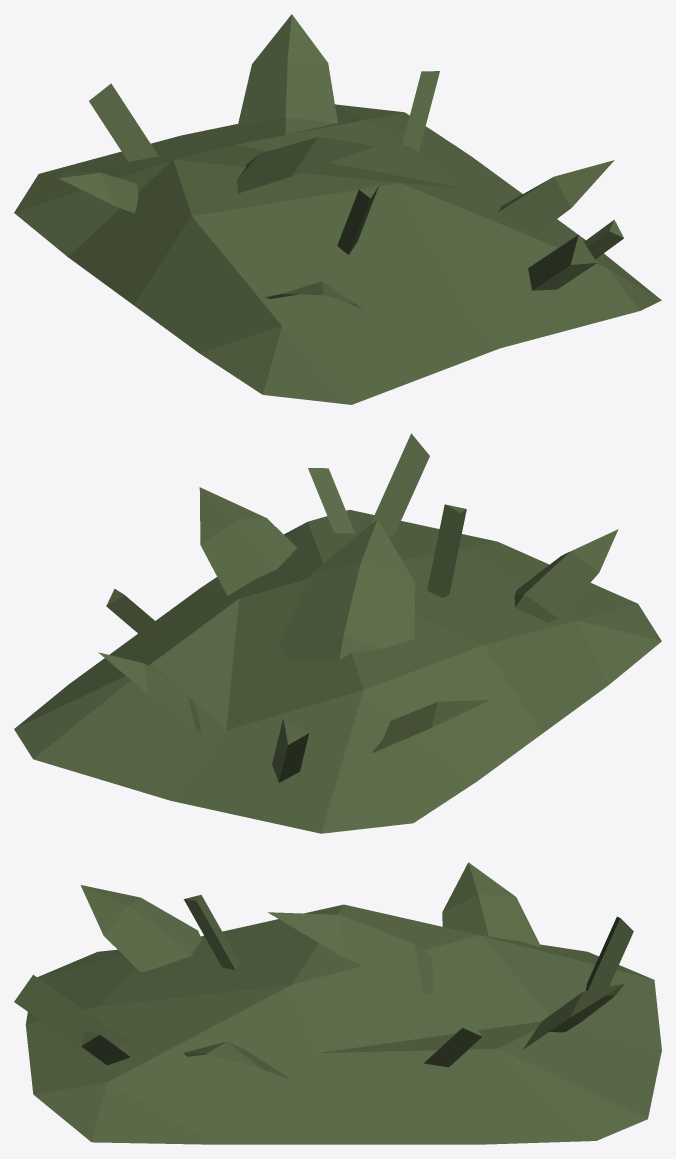
The model's file is Basket_Contents.fbx.
3 renders of one model, top to bottom at view 1: azimuth 30°, elevation 25°; view 2: azimuth 150°, elevation 25°; view 3: azimuth 270°, elevation 25°, orthographic.
Visible parts, largest first — view 1: Basket_Contents; view 2: Basket_Contents; view 3: Basket_Contents.
Boxes of the visible parts, x1=… form: Basket_Contents: x1=14, y1=14, x2=661, y2=404; Basket_Contents: x1=14, y1=433, x2=661, y2=833; Basket_Contents: x1=14, y1=862, x2=661, y2=1144.
Size of the model in its own units: 38.73 by 52.04 by 14.28.
